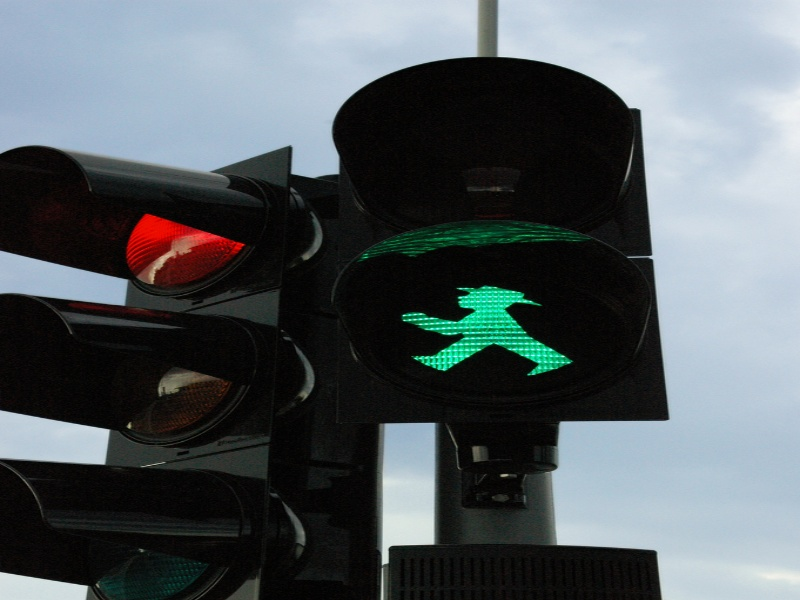pedestrian_crossing_green: (372, 251, 590, 409)
red_light: (5, 140, 295, 306)
